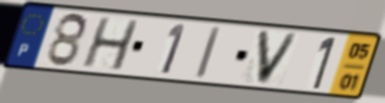1: (159, 23, 188, 77), (312, 36, 338, 91)
8: (43, 11, 91, 69)
H: (79, 16, 142, 73)
I: (193, 25, 224, 81)
V: (254, 28, 302, 87)
